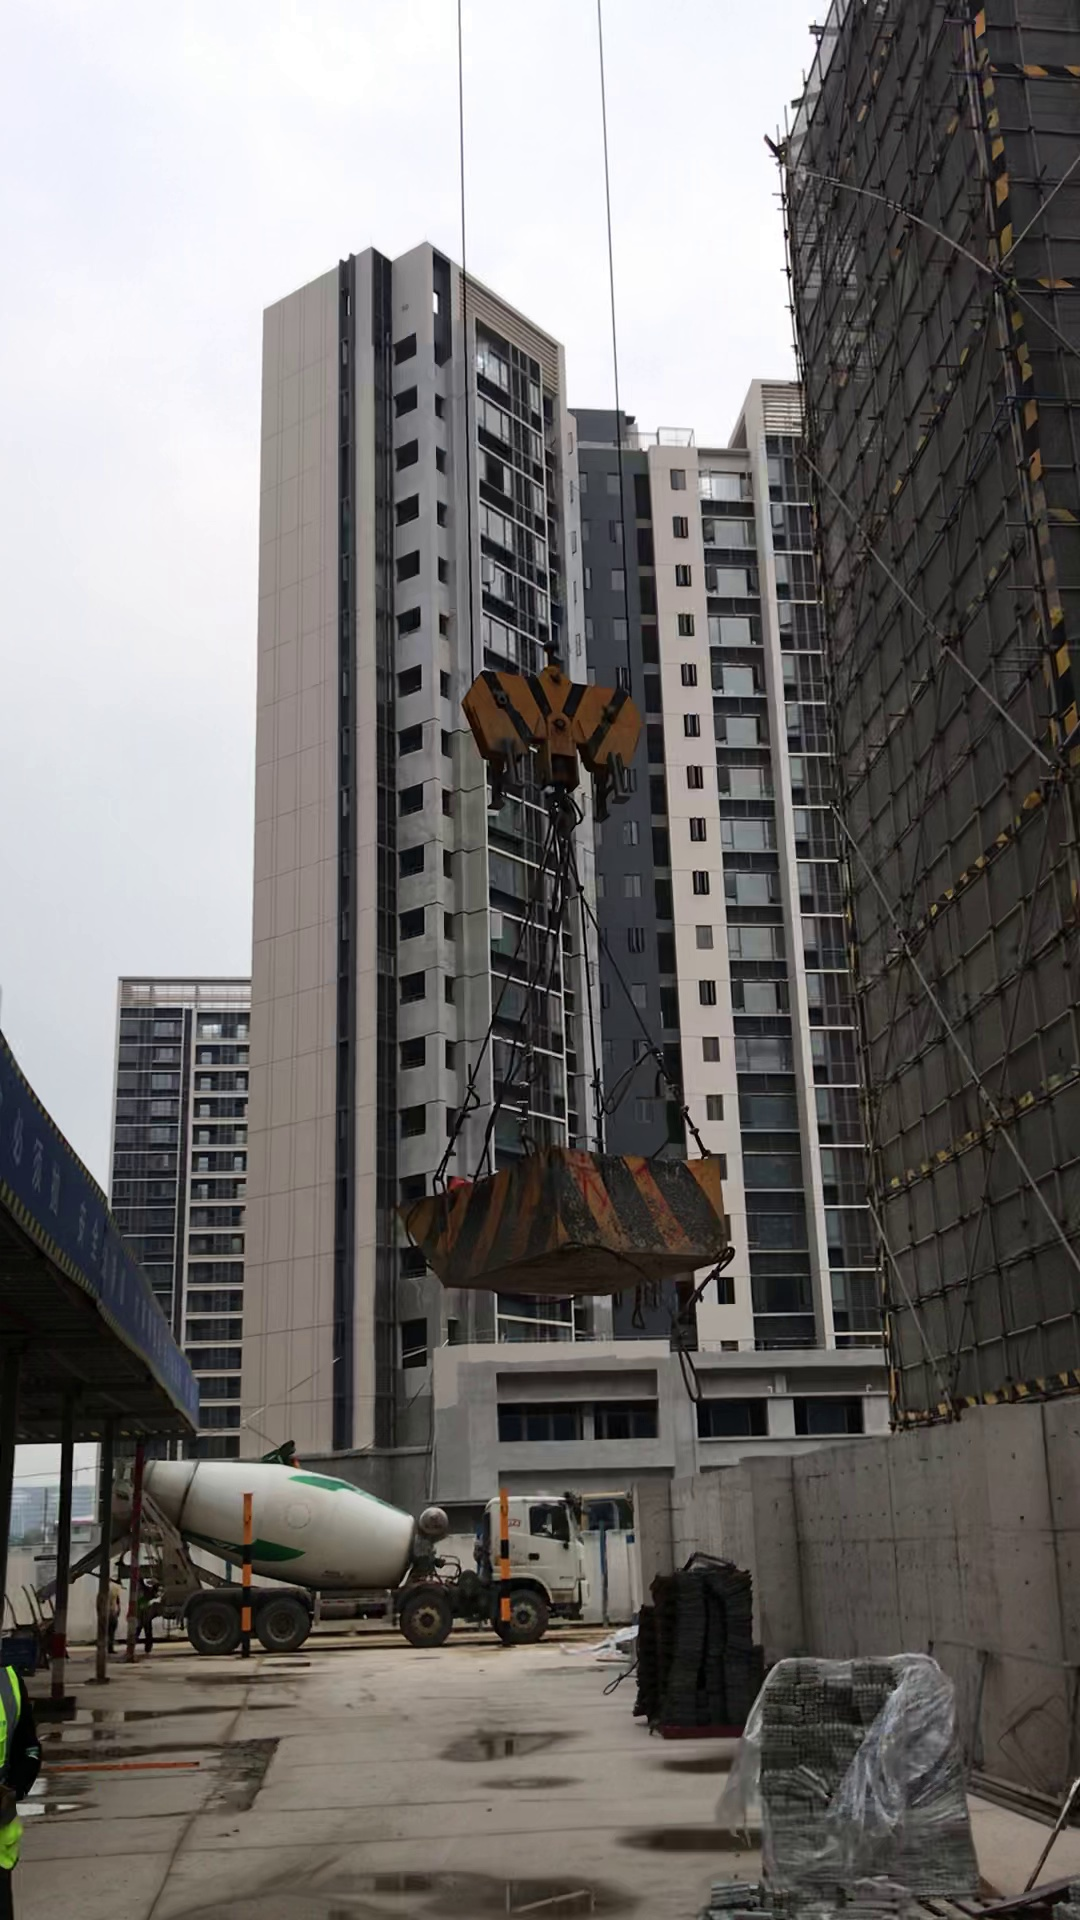handcart: (11, 1577, 59, 1656)
hook: (456, 625, 641, 781)
